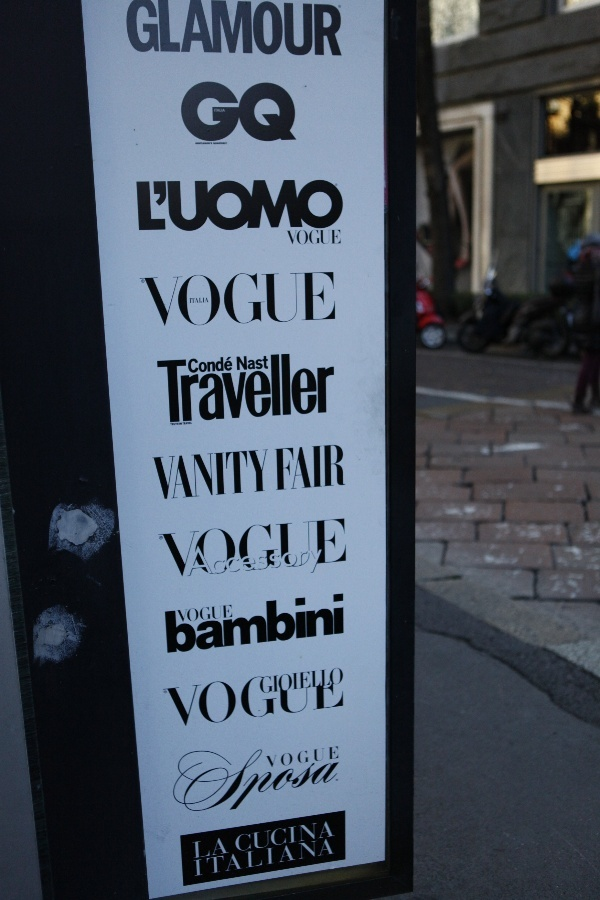text: (321, 269, 337, 331), (321, 745, 337, 805), (177, 520, 192, 584), (193, 520, 208, 584), (209, 520, 224, 584), (225, 520, 240, 584), (241, 520, 256, 584), (257, 520, 272, 584), (273, 520, 288, 584), (289, 520, 304, 584), (305, 520, 320, 584), (321, 520, 336, 584), (145, 269, 160, 331), (161, 269, 176, 331), (177, 269, 192, 331), (193, 269, 208, 331), (209, 269, 224, 331), (225, 269, 240, 331), (241, 269, 256, 331), (257, 269, 272, 331), (273, 269, 288, 331), (289, 269, 304, 331), (305, 269, 320, 331), (257, 745, 272, 805), (273, 745, 288, 805), (289, 745, 304, 805), (305, 745, 320, 805), (193, 83, 208, 143), (209, 83, 224, 143), (225, 83, 240, 143), (241, 83, 256, 143), (257, 83, 272, 143), (273, 83, 288, 143), (177, 670, 192, 729), (193, 670, 208, 729), (209, 670, 224, 729), (225, 670, 240, 729), (241, 670, 256, 729), (257, 670, 272, 729), (273, 670, 288, 729), (289, 670, 304, 729), (305, 670, 320, 729), (321, 670, 336, 729), (177, 596, 192, 655), (193, 596, 208, 655), (209, 596, 224, 655), (225, 596, 240, 655), (241, 596, 256, 655), (257, 596, 272, 655), (273, 596, 288, 655), (289, 596, 304, 655), (305, 596, 320, 655), (321, 596, 336, 655), (129, 2, 144, 57), (145, 2, 160, 57), (161, 2, 176, 57), (177, 2, 192, 57), (193, 2, 208, 57), (209, 2, 224, 57), (225, 2, 240, 57), (241, 2, 256, 57), (257, 2, 272, 57), (273, 2, 288, 57), (289, 2, 304, 57), (305, 2, 320, 57), (321, 2, 336, 57), (161, 450, 176, 503), (177, 450, 192, 503), (193, 450, 208, 503), (209, 450, 224, 503), (225, 450, 240, 503), (241, 450, 256, 503), (257, 450, 272, 503), (273, 450, 288, 503), (289, 450, 304, 503), (305, 450, 320, 503), (321, 450, 336, 503), (164, 520, 176, 584), (145, 182, 160, 231), (161, 182, 176, 231), (177, 182, 192, 231), (193, 182, 208, 231), (209, 182, 224, 231), (225, 182, 240, 231), (241, 182, 256, 231), (257, 182, 272, 231), (273, 182, 288, 231), (289, 182, 304, 231), (305, 182, 320, 231), (321, 182, 336, 231), (337, 520, 347, 584), (193, 838, 208, 880), (209, 838, 224, 880), (225, 838, 240, 880), (241, 838, 256, 880), (257, 838, 272, 880), (273, 838, 288, 880), (289, 838, 304, 880), (305, 838, 320, 880), (209, 819, 224, 859), (225, 819, 240, 859), (241, 819, 256, 859), (257, 819, 272, 859), (273, 819, 288, 859), (289, 819, 304, 859), (305, 819, 320, 859), (182, 83, 192, 143), (166, 596, 176, 655), (321, 819, 335, 859), (337, 670, 346, 729), (195, 819, 208, 859), (321, 838, 333, 880), (289, 83, 297, 143), (168, 670, 176, 729), (337, 596, 345, 655), (209, 547, 224, 578), (225, 547, 240, 578), (241, 547, 256, 578), (257, 547, 272, 578), (273, 547, 288, 578), (289, 547, 304, 578), (305, 547, 320, 578), (136, 182, 144, 231), (196, 547, 208, 578), (153, 450, 160, 503), (337, 450, 344, 503), (273, 745, 288, 768), (289, 745, 304, 768), (305, 745, 320, 768), (321, 745, 336, 768), (273, 671, 288, 692), (289, 671, 304, 692), (305, 671, 320, 692), (321, 671, 336, 692), (193, 355, 208, 375), (209, 355, 224, 375), (337, 182, 343, 231), (289, 229, 304, 247), (305, 229, 320, 247), (321, 229, 336, 247), (193, 605, 208, 622), (209, 605, 224, 622), (241, 354, 256, 371), (252, 745, 256, 805), (178, 605, 192, 622), (261, 671, 272, 692), (337, 2, 341, 57), (257, 354, 269, 371), (225, 355, 232, 375), (225, 605, 233, 622), (337, 671, 342, 692), (321, 547, 324, 578), (268, 745, 272, 768), (337, 229, 342, 247), (337, 745, 340, 768), (127, 2, 128, 57), (237, 354, 240, 371), (190, 355, 192, 375)
